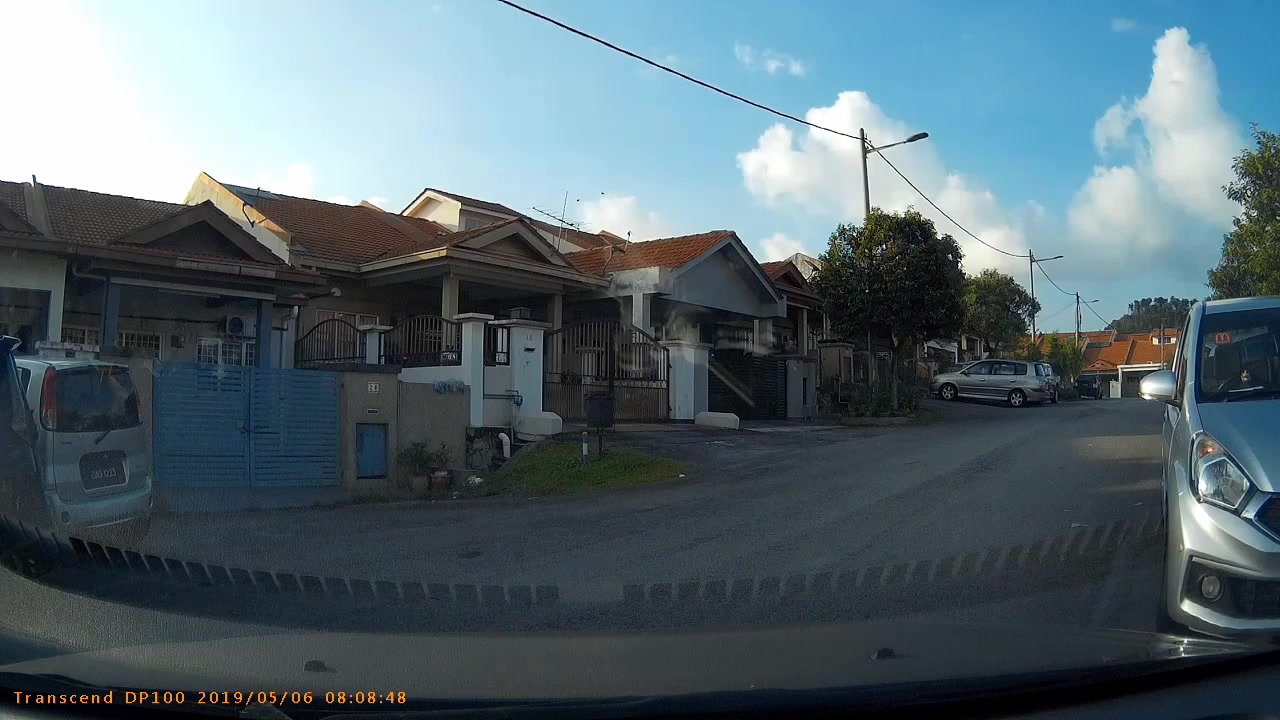license-plate: (77, 460, 129, 487)
